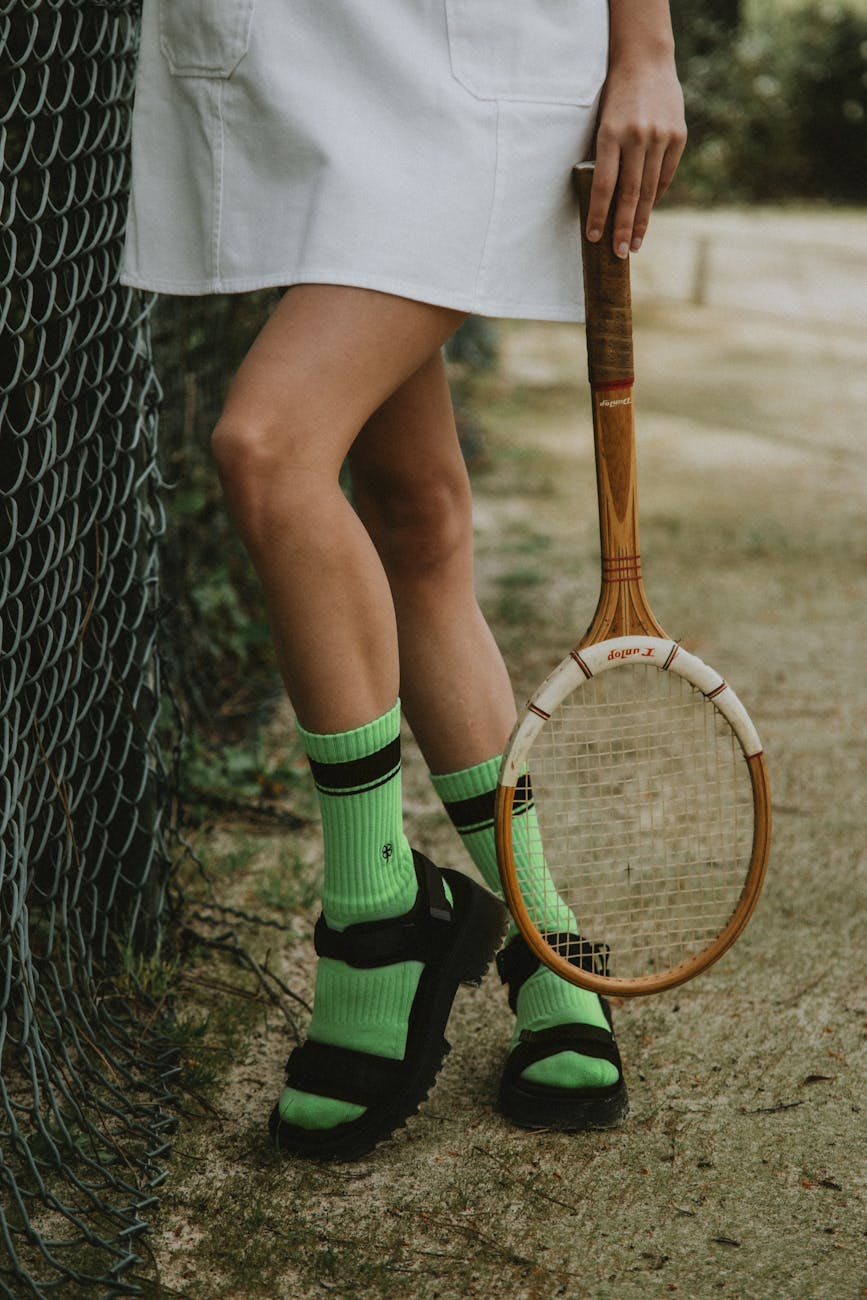opened_foot: (245, 860, 481, 1165), (485, 906, 629, 1129)
short_medium_skirt: (41, 2, 664, 322)
